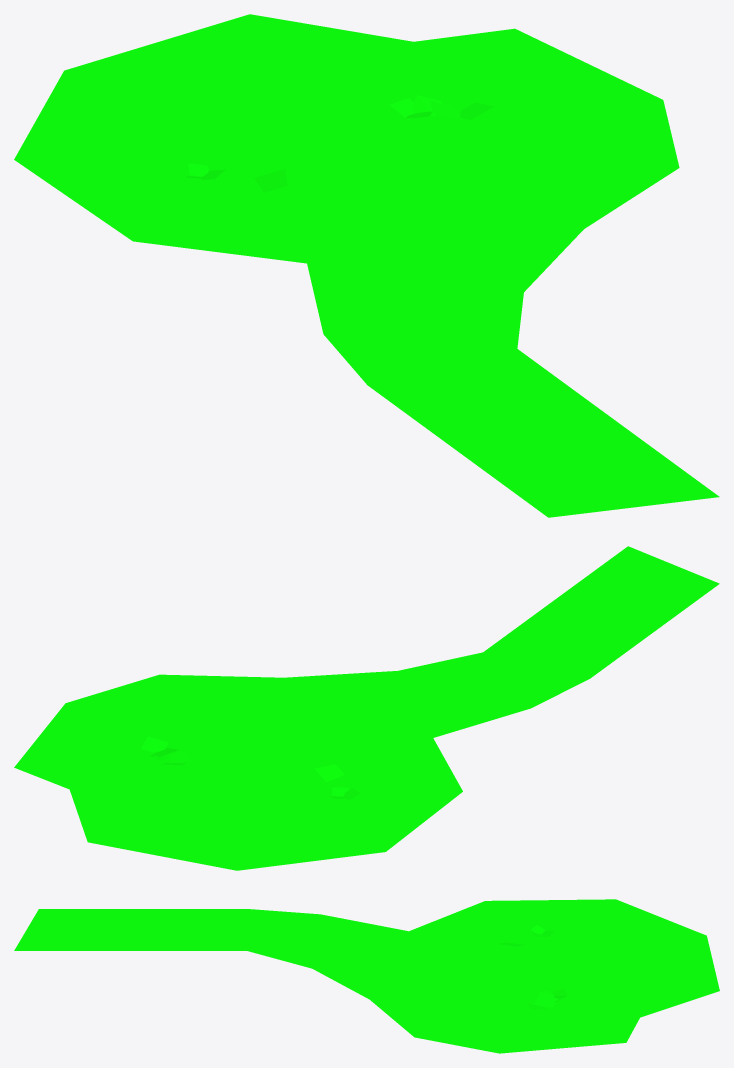
Rendered from s03b_ga1-floor.glb.
3 views of the same model, one above another, from view 1: azimuth 30°, elevation 25°; view 2: azimuth 150°, elevation 25°; view 3: azimuth 270°, elevation 25° (orthographic). The views are drawn at different scales.
Parts seen in each view (by area): view 1: collision_floor-colonly; view 2: collision_floor-colonly; view 3: collision_floor-colonly.
Part boxes in pixels (<box>): collision_floor-colonly: <box>14,14,719,517</box>; collision_floor-colonly: <box>14,546,719,870</box>; collision_floor-colonly: <box>14,899,719,1053</box>.
Size of the model in its own units: 21.95 by 0.4297 by 42.45.
